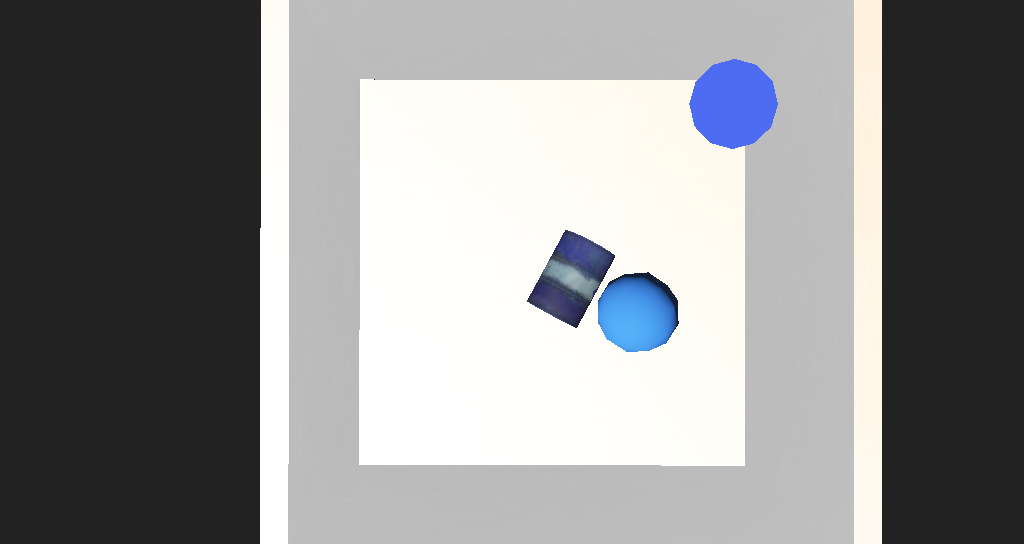cone: (485, 243, 552, 301)
cylinder: (600, 155, 667, 208)
sphere: (542, 270, 603, 313)
